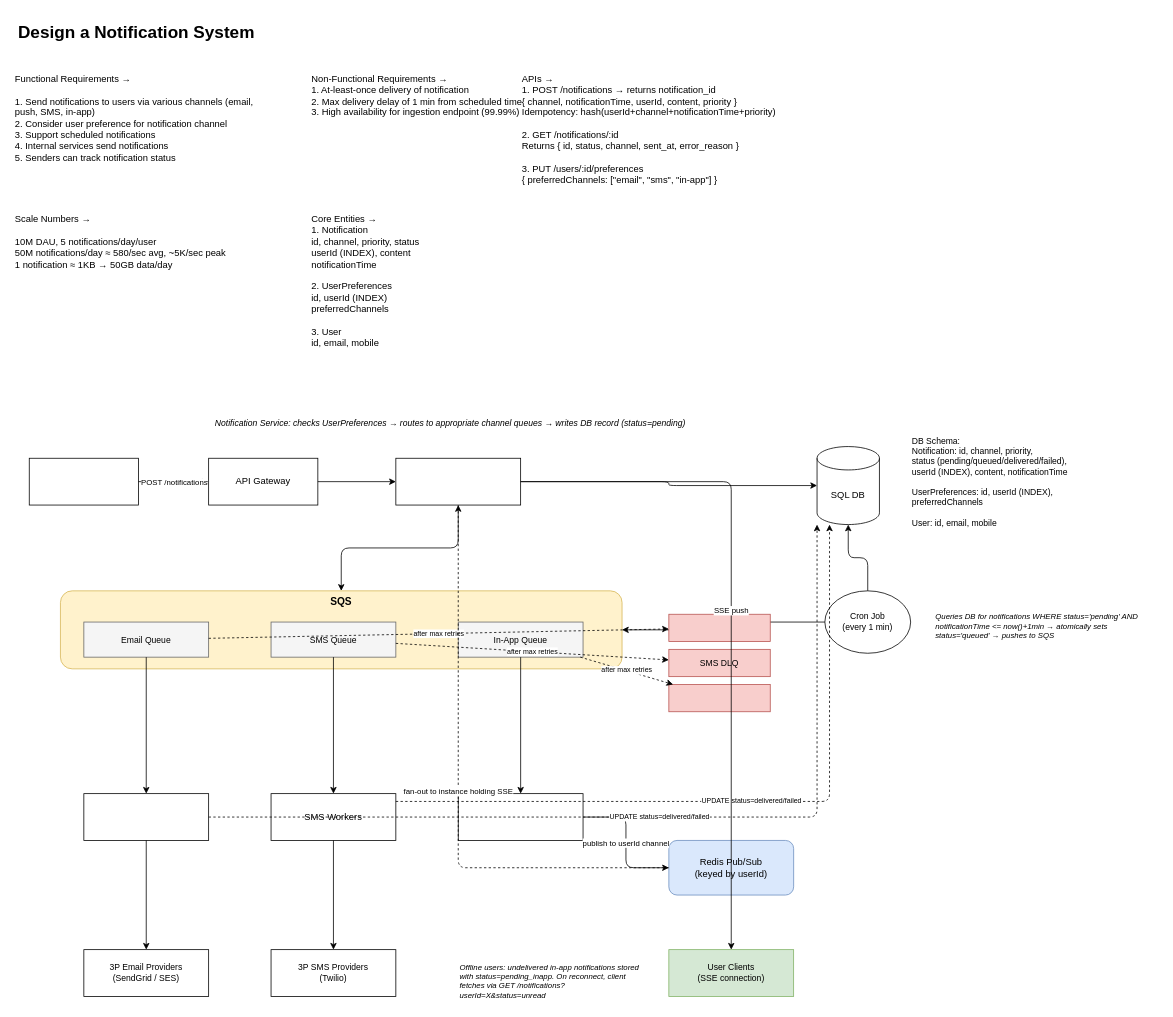
This 1173x1017 diagram has some shape labels left out. Here are the shapes that lost their labels. From the top down, the centre of each, then its label:
At point 83,481: "Sender Services".
At point 458,481: "Notification Service".
At point 719,627: "Email DLQ".
At point 719,698: "In-App DLQ".
At point 146,816: "Email Workers".
At point 520,816: "In-App Workers".
